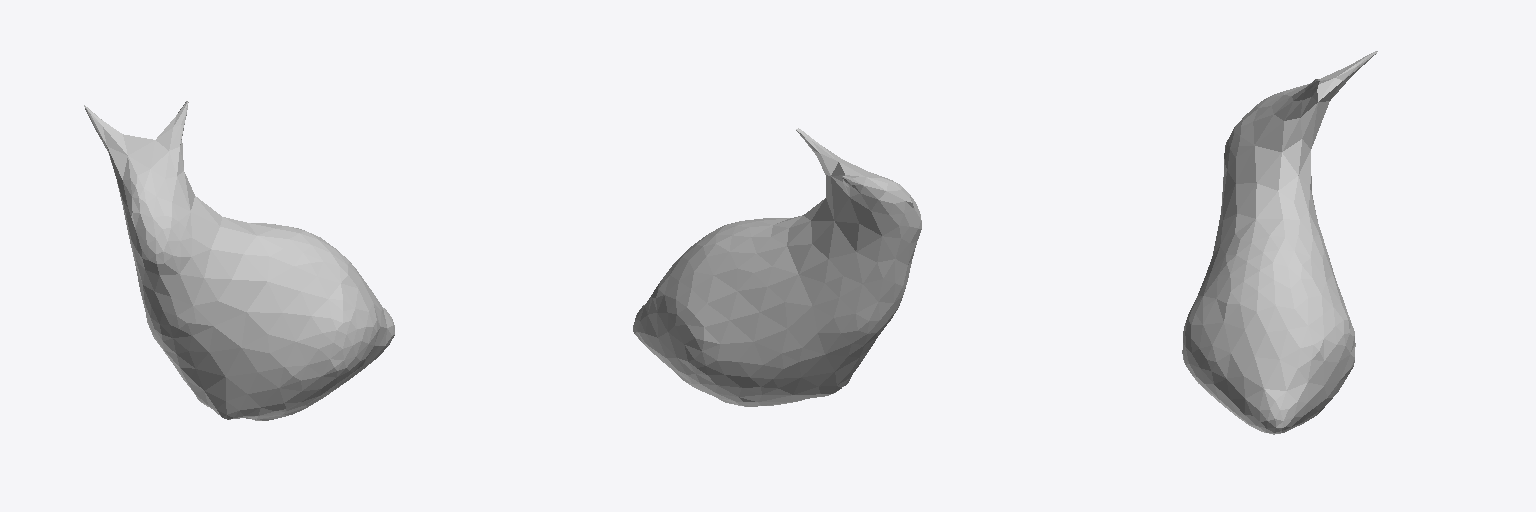
File: bunny_small_smoothed_90.obj
3 views of the same model, side by side, from view 1: azimuth 30°, elevation 25°; view 2: azimuth 150°, elevation 25°; view 3: azimuth 270°, elevation 25° (orthographic).
Bounding box in the file's own units: 0.107 × 0.1164 × 0.0672.